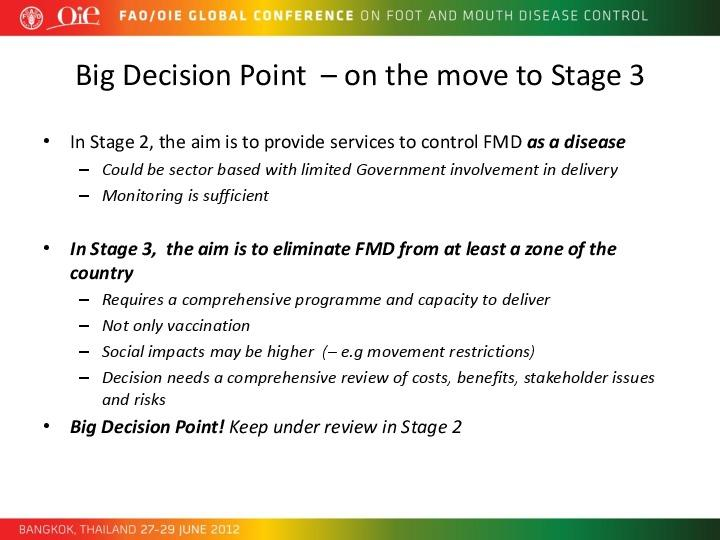paragraph: (30, 119, 683, 462)
subtitle: (69, 54, 656, 107)
title: (116, 1, 654, 32)
